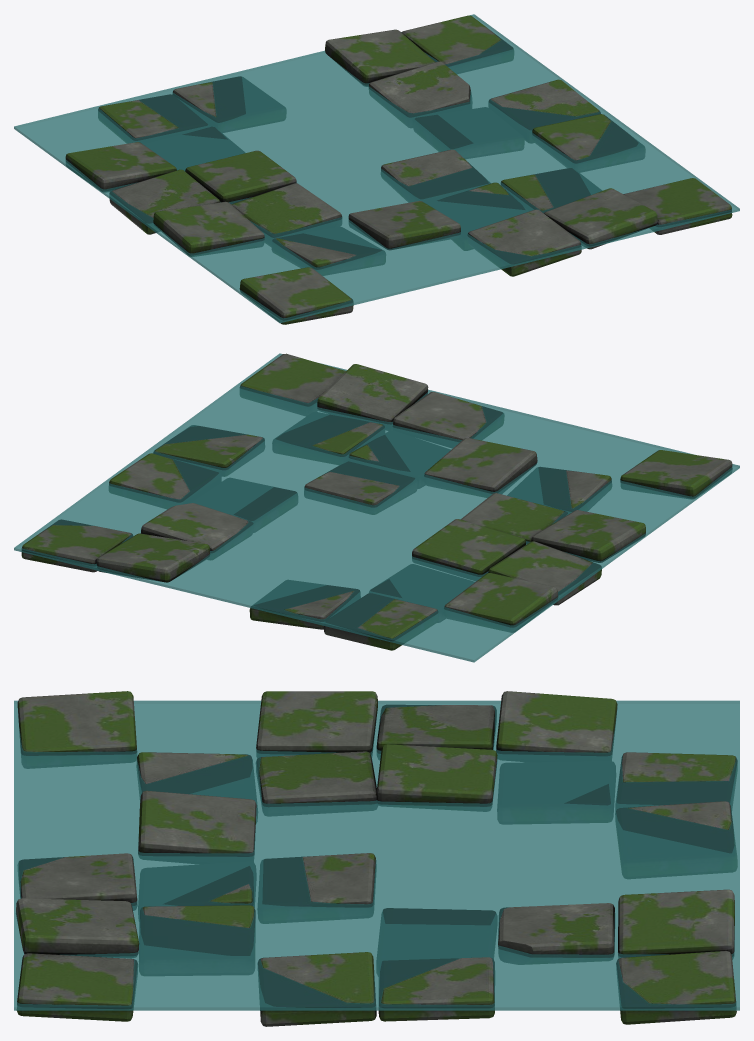
Rendered from dg_piso_alagado.glb.
3 renders of one model, top to bottom at view 1: azimuth 30°, elevation 25°; view 2: azimuth 150°, elevation 25°; view 3: azimuth 270°, elevation 25°, orthographic. The views are drawn at different scales.
Parts seen in each view (by area): view 1: dg_piso_alagado_tronco, agua; view 2: dg_piso_alagado_tronco, agua; view 3: dg_piso_alagado_tronco, agua.
Boxes of the visible parts, left/top/right/bottom form: dg_piso_alagado_tronco: left=65, top=15, right=732, bottom=324; agua: left=14, top=14, right=739, bottom=323; dg_piso_alagado_tronco: left=21, top=353, right=732, bottom=650; agua: left=14, top=353, right=739, bottom=662; dg_piso_alagado_tronco: left=16, top=691, right=737, bottom=1026; agua: left=14, top=700, right=739, bottom=1010.
Bounding box in the file's own units: 4 × 0.3006 × 4.
2 materials, 1 textured.
